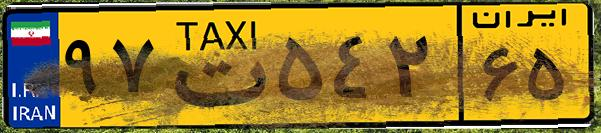2: (385, 28, 445, 110)
4: (330, 28, 385, 110)
5: (270, 28, 330, 110), (525, 38, 570, 115)
6: (475, 38, 525, 113)
7: (110, 28, 158, 98)
9: (57, 26, 110, 100)
ت: (158, 12, 270, 120)
